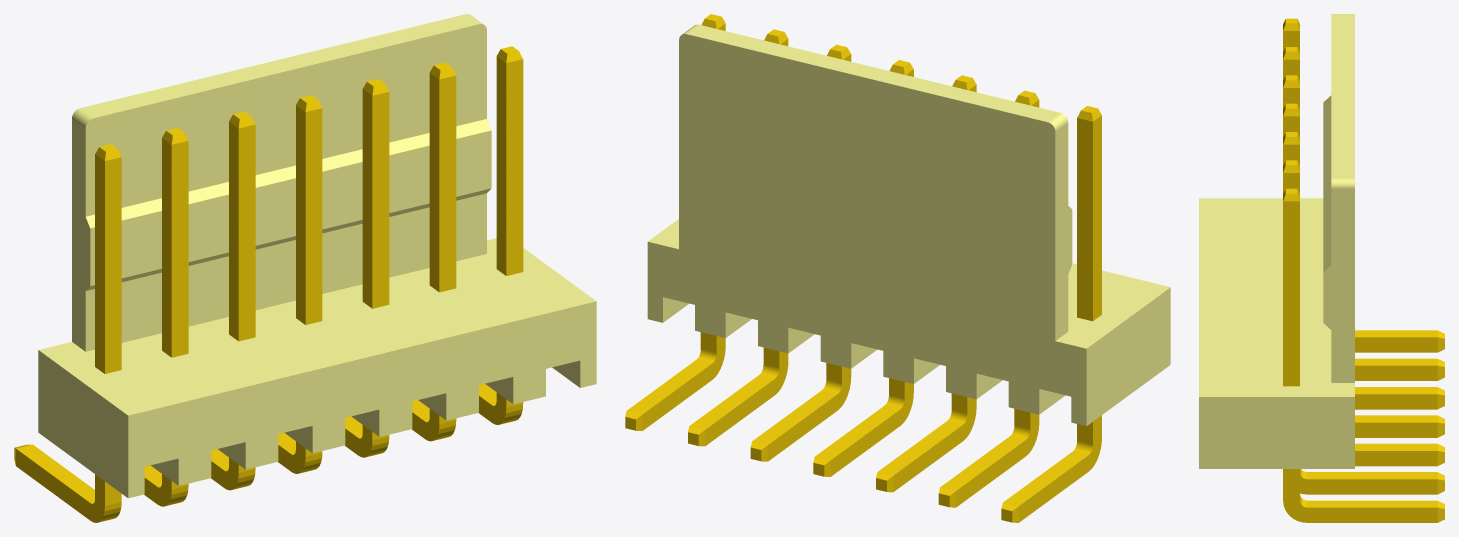
File: DS1070-7MR (WF-7RA CONNFLY).obj
3 views of the same model, side by side, from view 1: azimuth 30°, elevation 25°; view 2: azimuth 150°, elevation 25°; view 3: azimuth 270°, elevation 25° (orthographic). The views are drawn at different scales.
Visible parts, largest first — view 1: DS1070-7MR_(WF-7RA_CONNFLY); view 2: DS1070-7MR_(WF-7RA_CONNFLY); view 3: DS1070-7MR_(WF-7RA_CONNFLY).
Part boxes in pixels (x1,y1,x2,y2): DS1070-7MR_(WF-7RA_CONNFLY): [14, 14, 596, 522]; DS1070-7MR_(WF-7RA_CONNFLY): [625, 14, 1170, 522]; DS1070-7MR_(WF-7RA_CONNFLY): [1199, 14, 1444, 522].
Size of the model in its own units: 0.0165 by 0.0131 by 0.00863.
